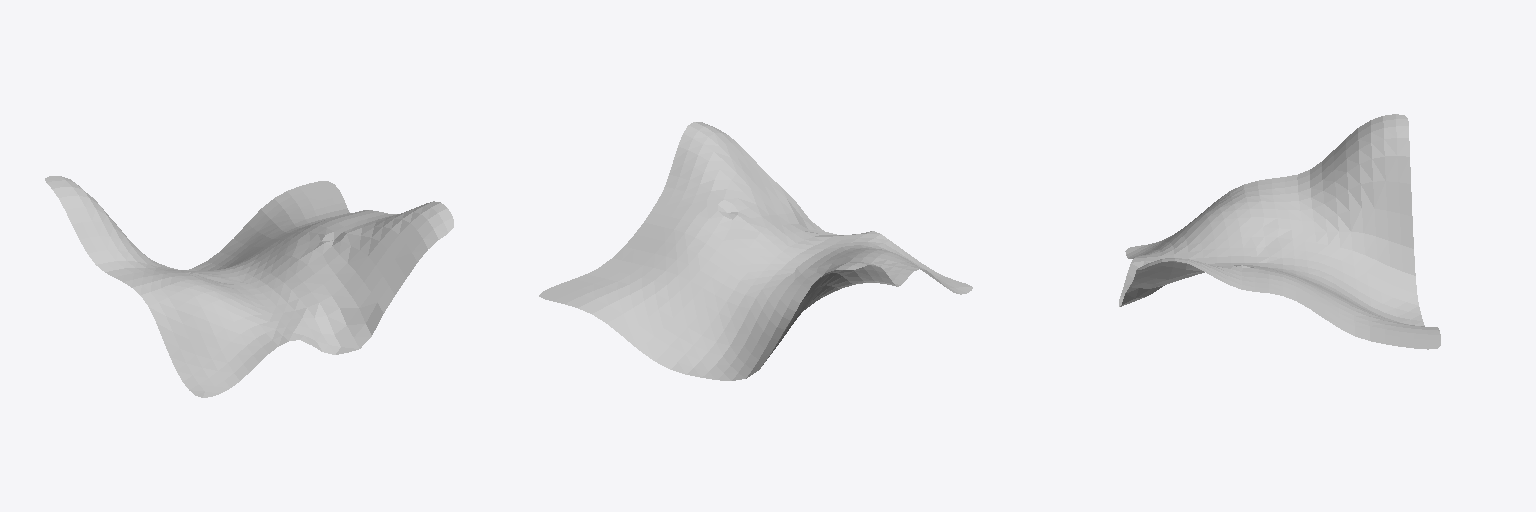
Rendered from Mesh9_Original.obj.
The picture shows the model from 3 angles: view 1: azimuth 30°, elevation 25°; view 2: azimuth 150°, elevation 25°; view 3: azimuth 270°, elevation 25°; orthographic projection.
Parts seen in each view (by area): view 1: Full_Plane.001; view 2: Full_Plane.001; view 3: Full_Plane.001.
Part boxes in pixels (x1,y1,x2,y2): Full_Plane.001: (45,176,453,397); Full_Plane.001: (539,122,972,380); Full_Plane.001: (1119,114,1440,349).
Size of the model in its own units: 2.52 by 1.08 by 2.31.